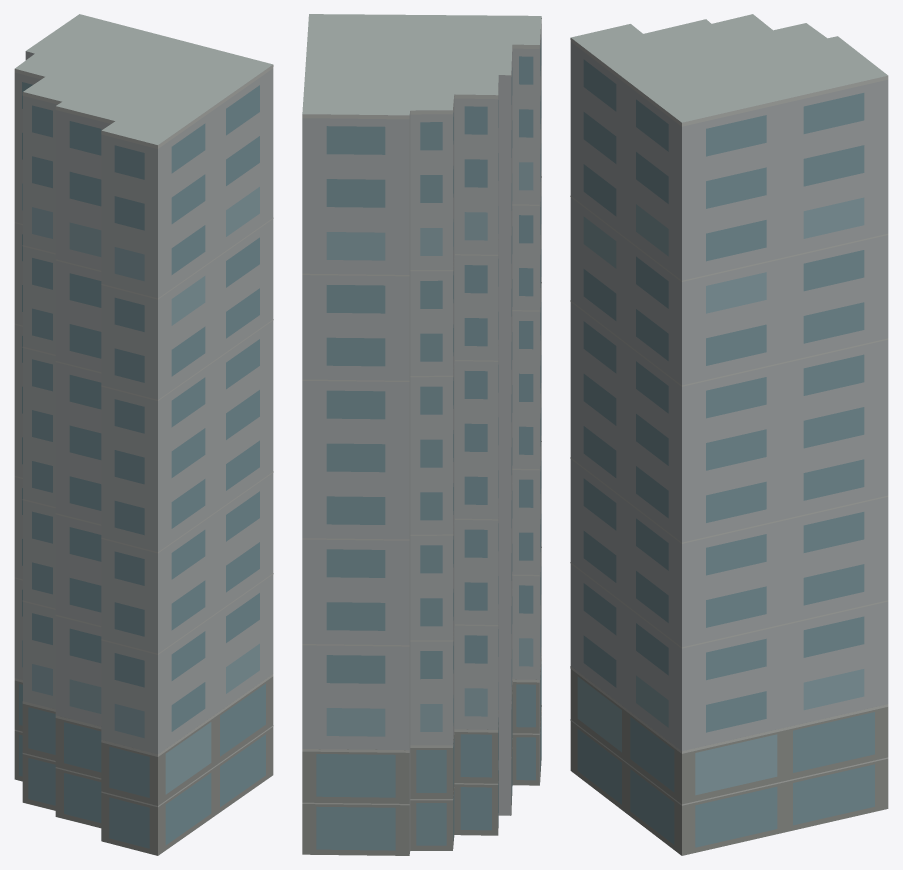
Rendered from survey-upis-32682164.glb.
The picture shows the model from 3 angles, left to right: view 1: azimuth 30°, elevation 25°; view 2: azimuth 150°, elevation 25°; view 3: azimuth 270°, elevation 25°; orthographic projection. The views are drawn at different scales.
Visible parts, largest first — view 1: survey-upis-32682164.tmp; view 2: survey-upis-32682164.tmp; view 3: survey-upis-32682164.tmp.
Boxes of the visible parts, box(x1,y1,x2,y2) form: survey-upis-32682164.tmp: box(14, 14, 273, 855); survey-upis-32682164.tmp: box(302, 14, 541, 855); survey-upis-32682164.tmp: box(570, 14, 888, 855).
Bounding box in the file's own units: 14.27 × 44.8 × 17.62.
